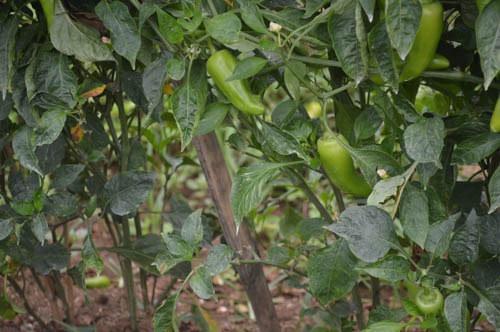ChiliPepper: (207, 50, 268, 115), (317, 133, 376, 200), (403, 5, 450, 87), (418, 289, 443, 321)
